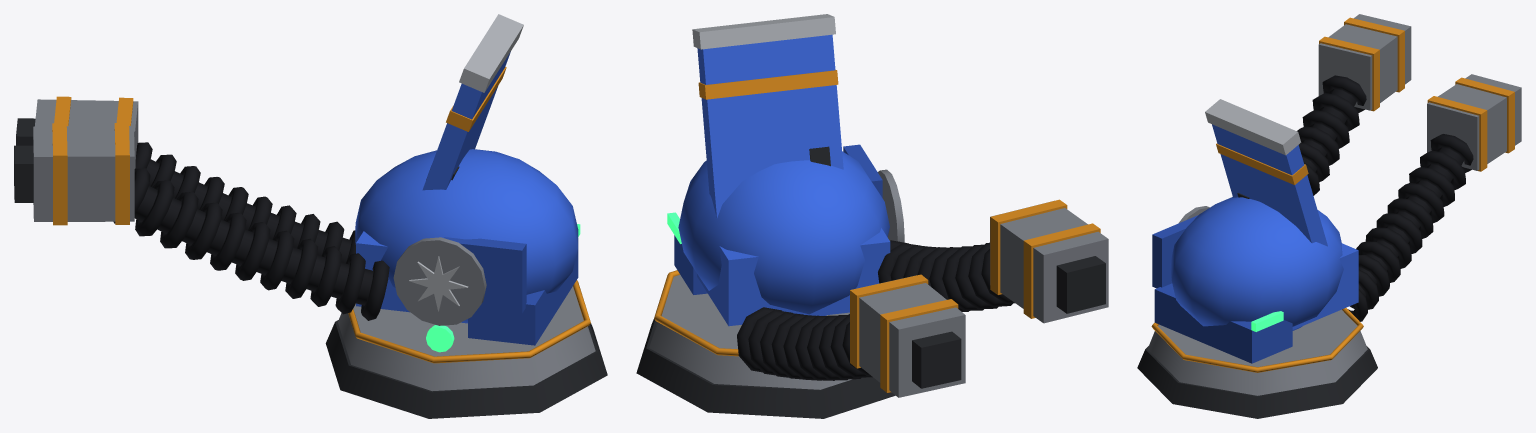
Rendered from techlab_starport.glb.
The picture shows the model from 3 angles, left to right: view 1: azimuth 30°, elevation 25°; view 2: azimuth 150°, elevation 25°; view 3: azimuth 270°, elevation 25°; orthographic projection. The views are drawn at different scales.
Bounding box in the file's own units: 2.44 × 1.44 × 1.94.
